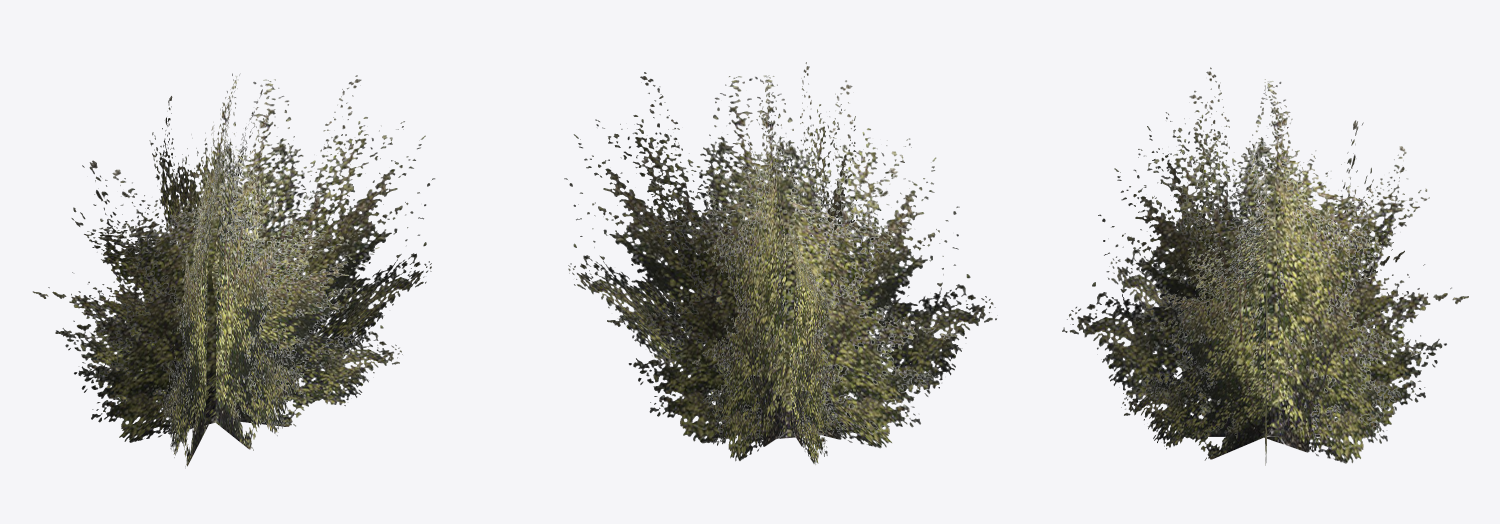
File: SM_Generic_Plant_01.fbx
3 views of the same model, side by side, from view 1: azimuth 30°, elevation 25°; view 2: azimuth 150°, elevation 25°; view 3: azimuth 270°, elevation 25° (orthographic). The views are drawn at different scales.
Visible parts, largest first — view 1: SM_Generic_Plant_01_LOD0; view 2: SM_Generic_Plant_01_LOD0; view 3: SM_Generic_Plant_01_LOD0.
Boxes of the visible parts, x1,y1,x2,y2 form: SM_Generic_Plant_01_LOD0: (32, 73, 435, 468); SM_Generic_Plant_01_LOD0: (564, 62, 997, 464); SM_Generic_Plant_01_LOD0: (1062, 67, 1468, 465).
Size of what is drawn, in the model's own units: 1.18 by 0.9712 by 0.9382.
